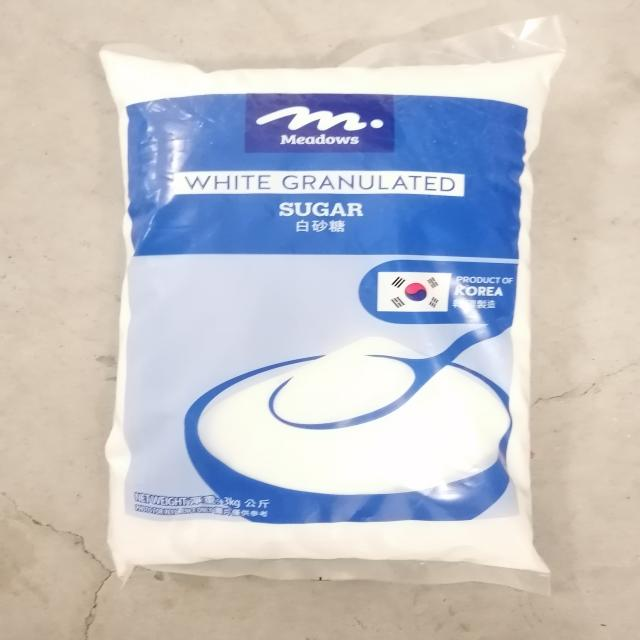object_name: (106, 51, 533, 571)
